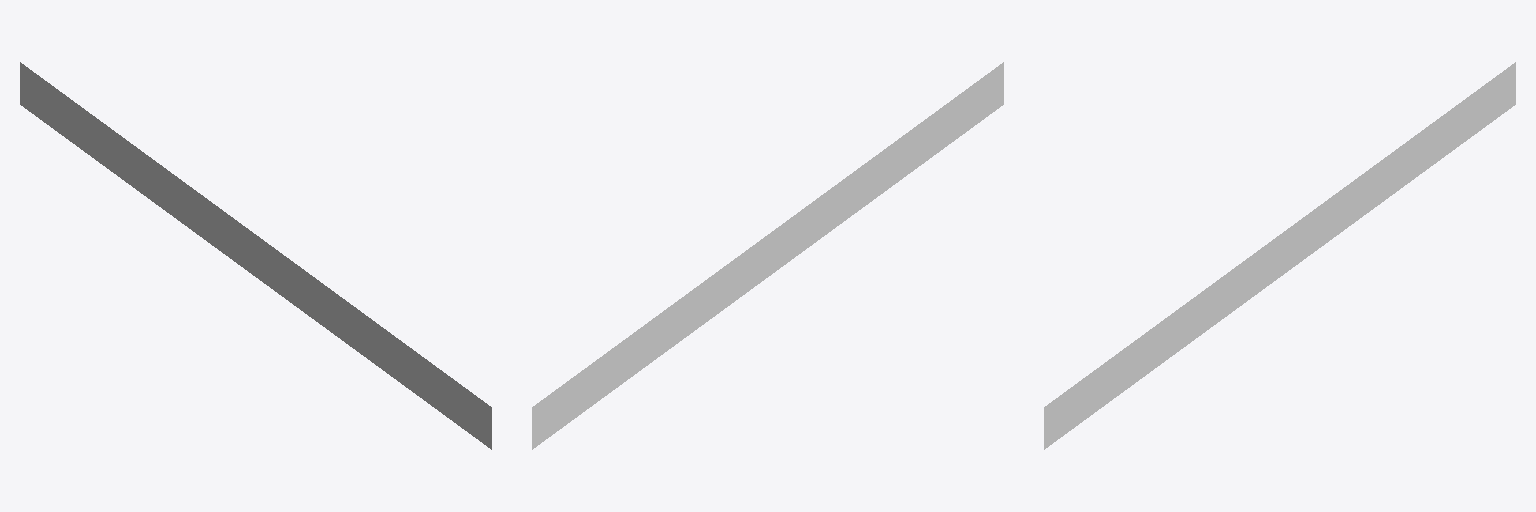
robot.urdf — wall3:
<?xml version="0.0" ?>
<robot name="wall3">
  <link name="wall3Link">
  <contact>
      <restitution value="0.9" />
      <lateral_friction value="1"/>
  </contact>
    <inertial>
      <origin rpy="0 0 0" xyz="0 0 0"/>
       <mass value=".0"/>
       <inertia ixx="0" ixy="0" ixz="0" iyy="0" iyz="0" izz="0"/>
    </inertial>
    <visual>
      <origin rpy="0 0 0" xyz="0 0 0"/>
      <geometry>
				<mesh filename="wall3.obj" scale="1 1 1"/>
      </geometry>
       <material name="white">
        <color rgba="1 1 1 1"/>
      </material>
    </visual>
    <collision>
      <geometry>
        <box size="0.1 2 0.2"/>
      </geometry>
      <origin rpy="0 0 0" xyz="1.05 0 0.025"/>
    </collision>
  </link>
</robot>

--- Render facts (derived) ---
Views: 3 orthographic renders of the robot side by side, from view 1: azimuth 30°, elevation 25°; view 2: azimuth 150°, elevation 25°; view 3: azimuth 330°, elevation 25°.
Model wall3 with 1 links and 0 joints (none), rooted at wall3Link, posed all joints at 0.
Links seen in each view (by area): view 1: wall3Link; view 2: wall3Link; view 3: wall3Link.
Link boxes in pixels (x1,y1,x2,y2): wall3Link: [20, 62, 491, 449]; wall3Link: [532, 62, 1003, 449]; wall3Link: [1044, 62, 1515, 449].
Size in the robot's own frame: 0 by 2 by 0.1 metres.
Meshes: 1 distinct files referenced, 1 mesh visuals loaded (1 OBJ).